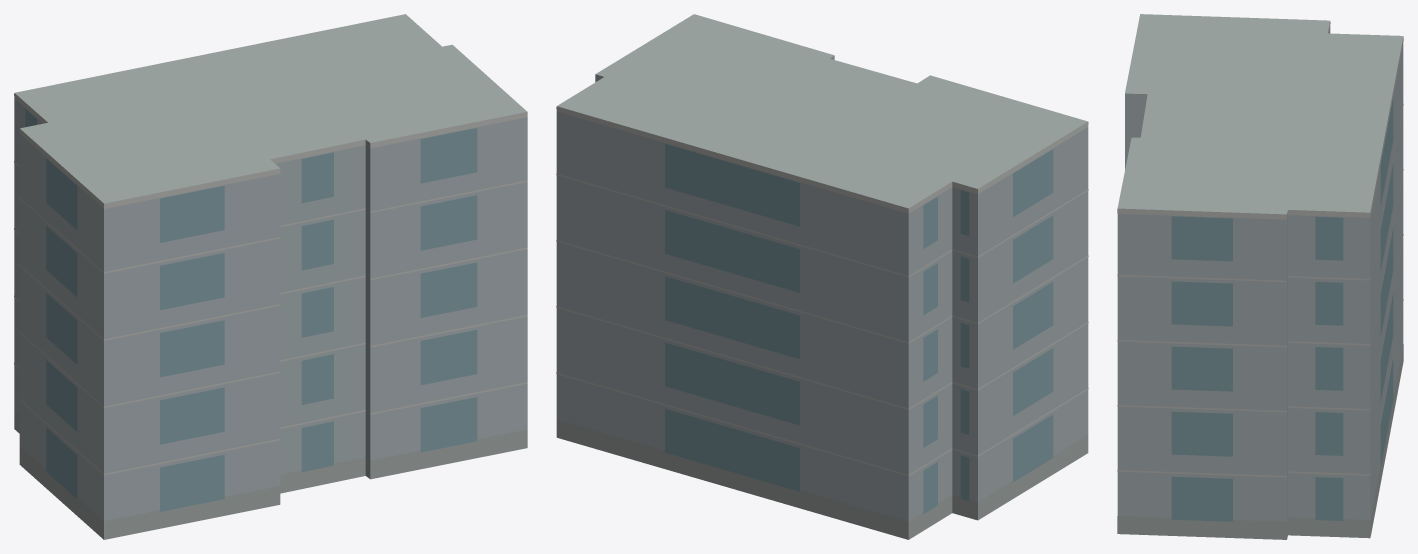
The model's file is survey-upis-32934663.glb.
3 views of the same model, side by side, from view 1: azimuth 30°, elevation 25°; view 2: azimuth 150°, elevation 25°; view 3: azimuth 270°, elevation 25° (orthographic). The views are drawn at different scales.
Visible parts, largest first — view 1: survey-upis-32934663.tmp; view 2: survey-upis-32934663.tmp; view 3: survey-upis-32934663.tmp.
Part boxes in pixels (x1,y1,x2,y2): survey-upis-32934663.tmp: (14,14,527,539); survey-upis-32934663.tmp: (556,14,1088,539); survey-upis-32934663.tmp: (1117,14,1403,539).
Bounding box in the file's own units: 20.16 × 15.25 × 12.17.
